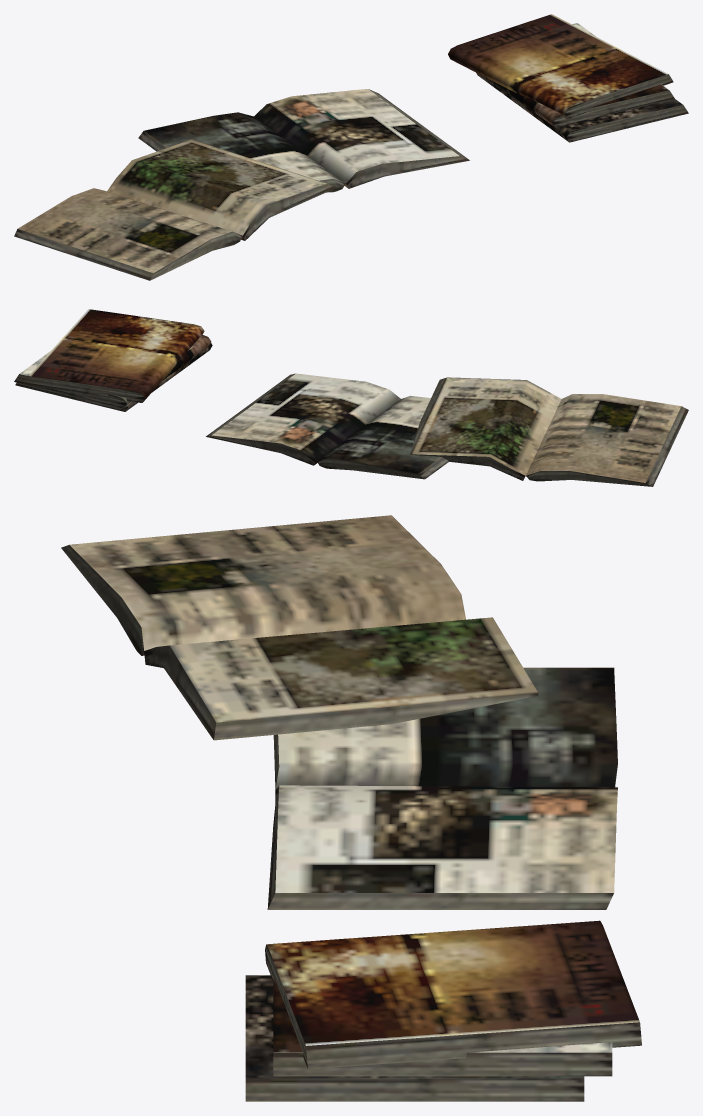
File: 046_Magazine.fbx
3 views of the same model, one above another, from view 1: azimuth 30°, elevation 25°; view 2: azimuth 150°, elevation 25°; view 3: azimuth 270°, elevation 25° (orthographic). The views are drawn at different scales.
Visible parts, largest first — view 1: LOD_1_Group_0_Sub_1__sm36_046_Magazine01A_A_Mat; view 2: LOD_1_Group_0_Sub_1__sm36_046_Magazine01A_A_Mat; view 3: LOD_1_Group_0_Sub_1__sm36_046_Magazine01A_A_Mat.
Boxes of the visible parts, x1,y1,x2,y2 form: LOD_1_Group_0_Sub_1__sm36_046_Magazine01A_A_Mat: (14,14,688,280); LOD_1_Group_0_Sub_1__sm36_046_Magazine01A_A_Mat: (14,309,688,486); LOD_1_Group_0_Sub_1__sm36_046_Magazine01A_A_Mat: (61,515,641,1101).
Bounding box in the file's own units: 1.3 × 0.0619 × 0.555.
